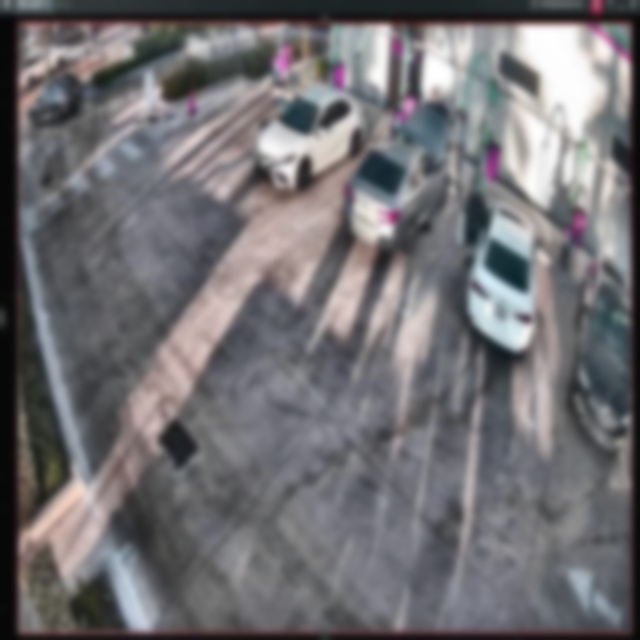Car: (331, 104, 452, 251), (455, 192, 540, 358), (254, 85, 367, 190)
